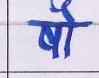au_matra: (53, 1, 79, 58)
